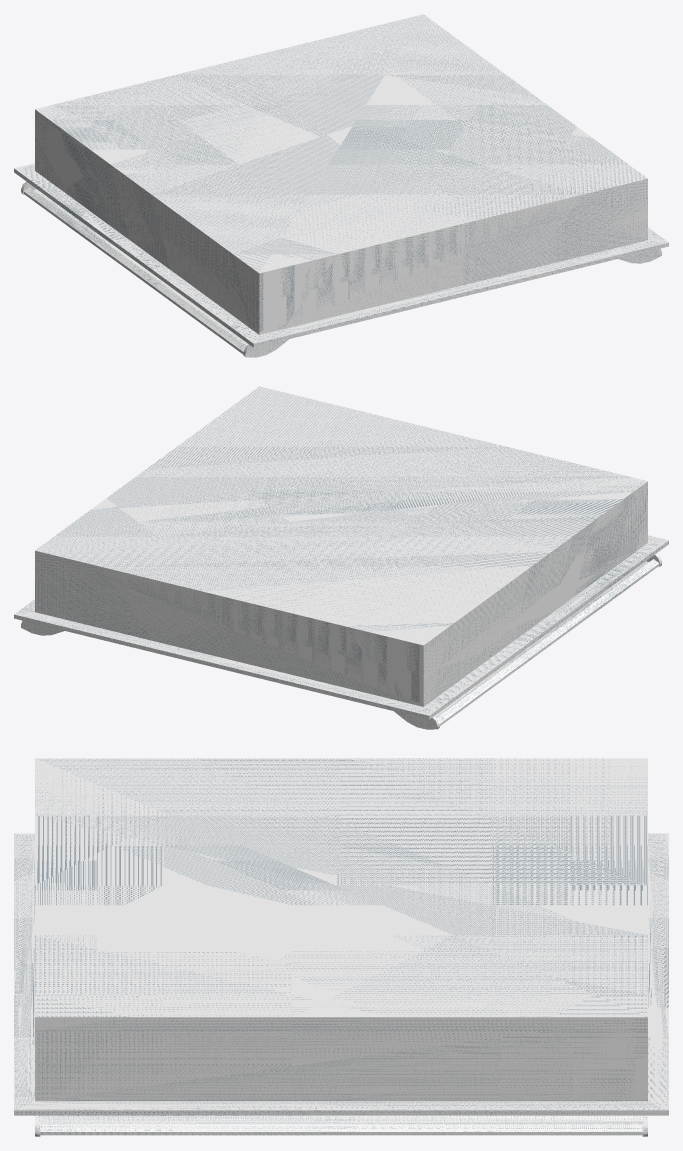
The model's file is THORN.fbx.
3 renders of one model, top to bottom at view 1: azimuth 30°, elevation 25°; view 2: azimuth 150°, elevation 25°; view 3: azimuth 270°, elevation 25°, orthographic. The views are drawn at different scales.
Parts seen in each view (by area): view 1: TLG_Elevation_Premier_dwg1; view 2: TLG_Elevation_Premier_dwg1; view 3: TLG_Elevation_Premier_dwg1.
Part boxes in pixels (x1=…): TLG_Elevation_Premier_dwg1: x1=14, y1=14, x2=668, y2=357; TLG_Elevation_Premier_dwg1: x1=14, y1=386, x2=668, y2=729; TLG_Elevation_Premier_dwg1: x1=14, y1=758, x2=668, y2=1136.
Size of the model in its own units: 595 by 114 by 593.
